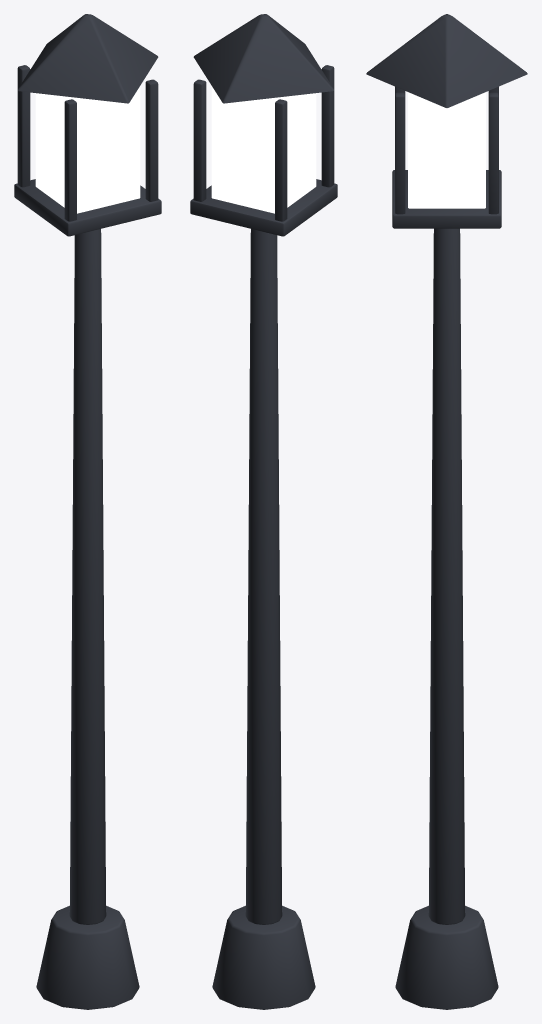
Rendered from lamp_post.glb.
The picture shows the model from 3 angles, left to right: view 1: azimuth 30°, elevation 25°; view 2: azimuth 150°, elevation 25°; view 3: azimuth 270°, elevation 25°; orthographic projection.
Parts seen in each view (by area): view 1: lamp_post; view 2: lamp_post; view 3: lamp_post.
Part boxes in pixels (x1,y1,x2,y2): lamp_post: (14, 14, 161, 1009); lamp_post: (190, 14, 337, 1009); lamp_post: (366, 14, 527, 1009).
Bounding box in the file's own units: 0.622 × 4.13 × 0.622.
2 materials, 2 textured.
